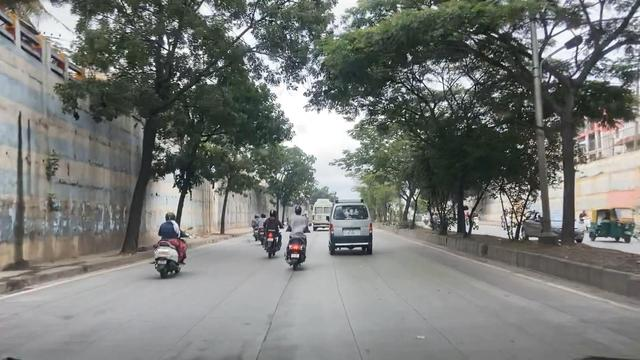LMV: (141, 205, 190, 290), (323, 199, 376, 262), (288, 199, 311, 273), (255, 211, 285, 262)
